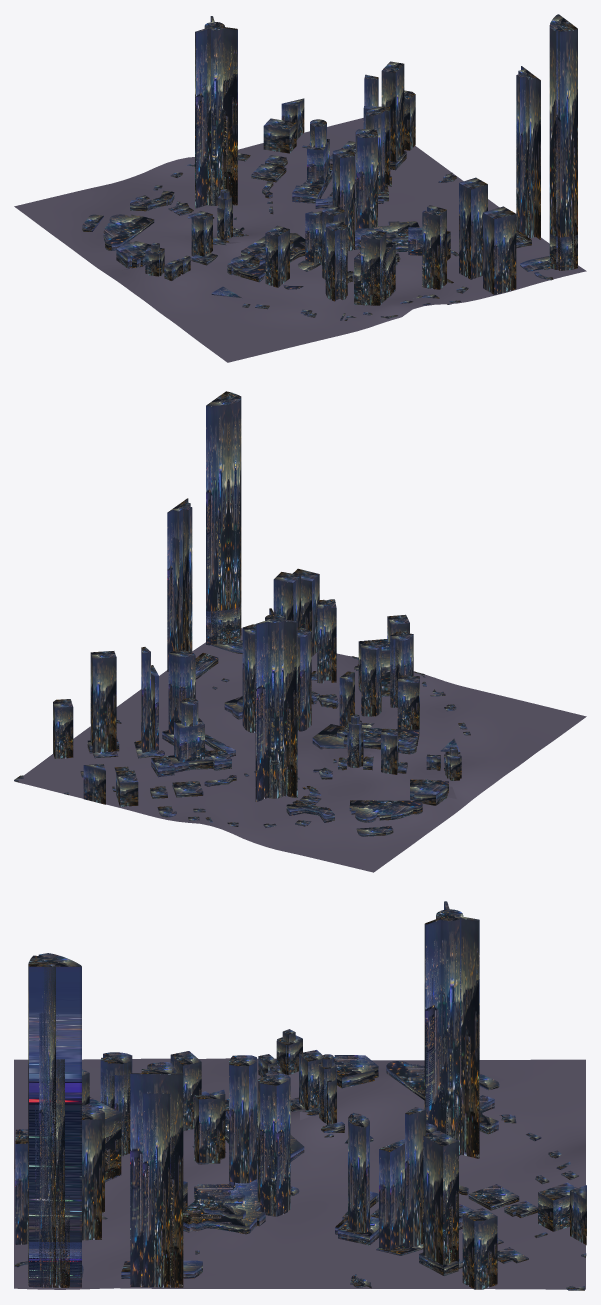
Rendered from shanghaiCity.glb.
3 renders of one model, top to bottom at view 1: azimuth 30°, elevation 25°; view 2: azimuth 150°, elevation 25°; view 3: azimuth 270°, elevation 25°, orthographic. The views are drawn at different scales.
Visible parts, largest first — view 1: Layer:buildings, Layer:topography; view 2: Layer:buildings, Layer:topography; view 3: Layer:buildings, Layer:topography.
Boxes of the visible parts, x1=… form: Layer:buildings: x1=82, y1=14, x2=577, y2=320; Layer:topography: x1=14, y1=118, x2=586, y2=362; Layer:buildings: x1=14, y1=391, x2=470, y2=836; Layer:topography: x1=15, y1=628, x2=586, y2=872; Layer:buildings: x1=14, y1=901, x2=586, y2=1290; Layer:topography: x1=14, y1=1058, x2=585, y2=1289.
Bounding box in the file's own units: 25.26 × 16.33 × 25.96.
2 materials, 1 textured.
